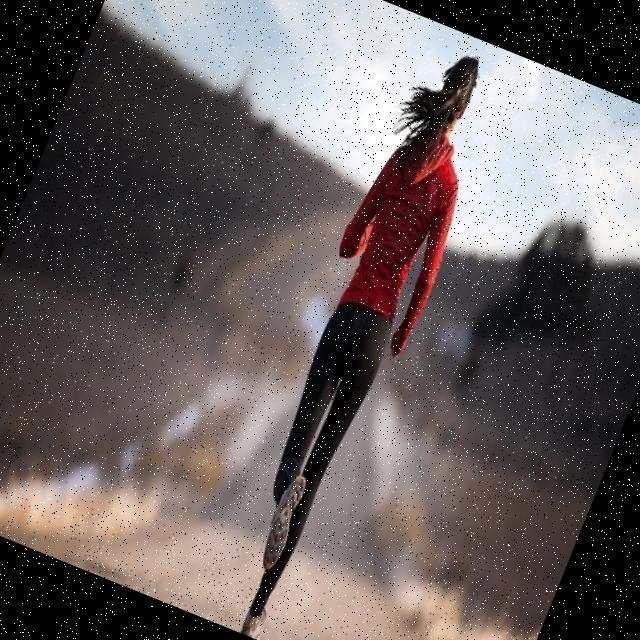Person: (190, 34, 517, 640)
